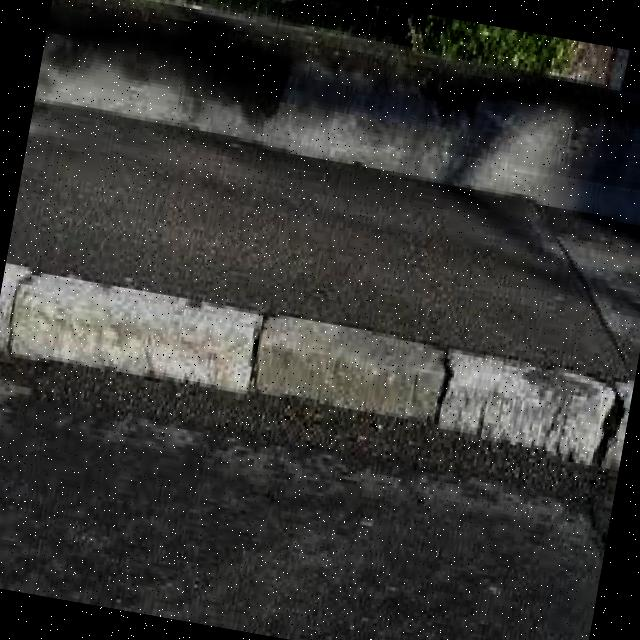curb: (1, 272, 623, 457)
